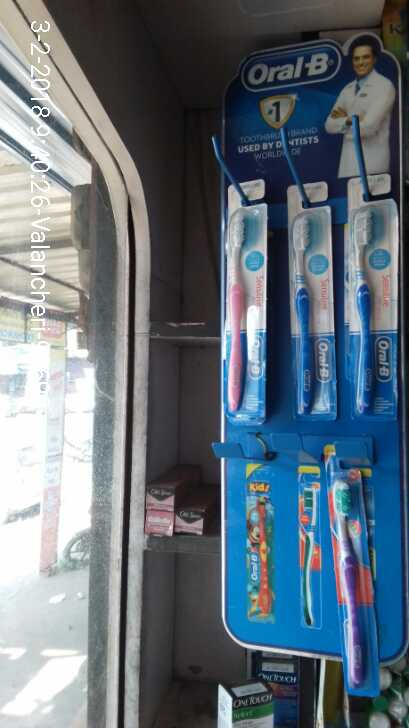oralb: (280, 187, 341, 416), (329, 462, 383, 703), (219, 181, 269, 421), (348, 185, 392, 414)
